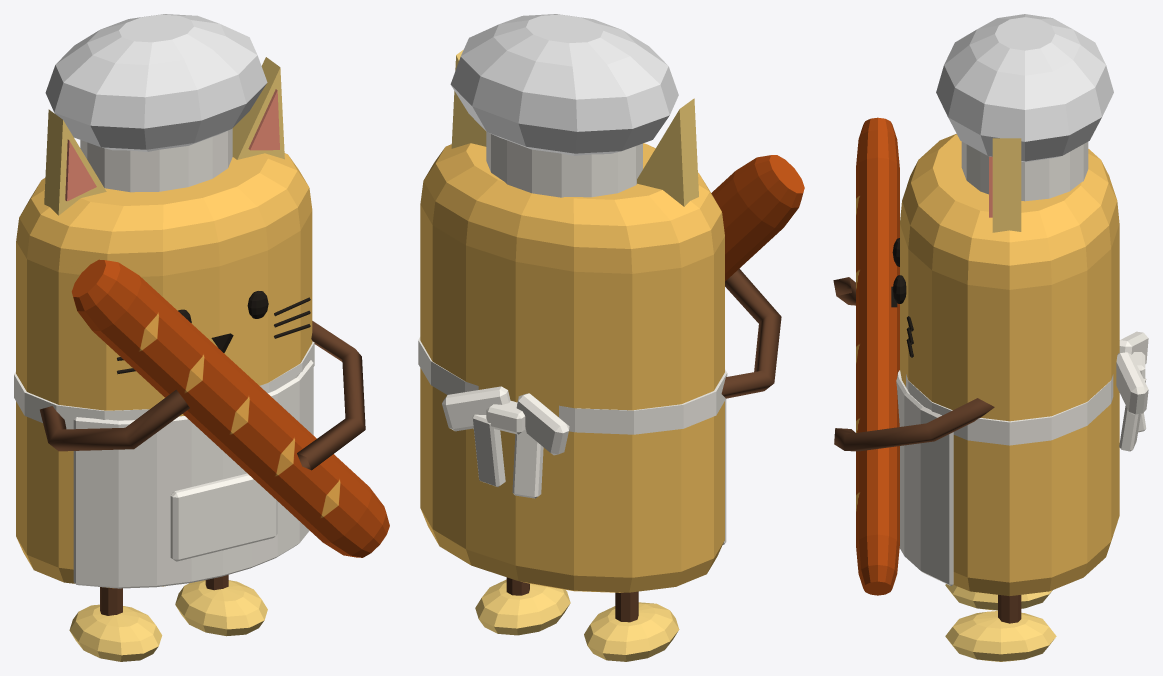
Rendered from char_baker_cat_stout_v9.glb.
The picture shows the model from 3 angles, left to right: view 1: azimuth 30°, elevation 25°; view 2: azimuth 150°, elevation 25°; view 3: azimuth 270°, elevation 25°; orthographic projection. The views are drawn at different scales.
Visible parts, largest first — view 1: BC3_Body_Capsule, BC3_Baguette, BC3_Hat_Puff, BC3_Apron_Front, BC3_Apron_Pocket, BC3_Hat_Band, BC3_Foot_L, BC3_Foot_R, BC3_Arm_L_UpperSupport, BC3_Arm_R_LowerWrap, BC3_EarInner_L, BC3_EarInner_R (+2 smaller); view 2: BC3_Body_Capsule, BC3_Hat_Puff, BC3_Baguette, BC3_Hat_Band, BC3_Apron_Waistband, BC3_Foot_L, BC3_EarInner_L, BC3_Foot_R, BC3_Arm_L_UpperSupport, BC3_Bow_L, BC3_Bow_R, BC3_Ribbon_L (+4 smaller); view 3: BC3_Body_Capsule, BC3_Hat_Puff, BC3_Baguette, BC3_Apron_Front, BC3_Apron_Waistband, BC3_Foot_R, BC3_Hat_Band, BC3_Arm_R_LowerWrap, BC3_EarInner_R, BC3_Bow_R, BC3_Foot_L, BC3_Ribbon_R (+3 smaller).
Part boxes in pixels (left/top/right/bottom): BC3_Body_Capsule: left=16, top=153, right=312, bottom=588; BC3_Baguette: left=71, top=259, right=389, bottom=557; BC3_Hat_Puff: left=45, top=14, right=267, bottom=151; BC3_Apron_Front: left=73, top=360, right=313, bottom=588; BC3_Apron_Pocket: left=170, top=473, right=277, bottom=561; BC3_Hat_Band: left=80, top=128, right=232, bottom=192; BC3_Foot_L: left=69, top=604, right=162, bottom=661; BC3_Foot_R: left=175, top=580, right=267, bottom=636; BC3_Arm_L_UpperSupport: left=40, top=389, right=189, bottom=451; BC3_Arm_R_LowerWrap: left=297, top=321, right=365, bottom=470; BC3_EarInner_L: left=44, top=109, right=106, bottom=215; BC3_EarInner_R: left=232, top=57, right=284, bottom=159; BC3_Body_Capsule: left=420, top=143, right=724, bottom=592; BC3_Hat_Puff: left=450, top=14, right=678, bottom=155; BC3_Baguette: left=711, top=155, right=804, bottom=281; BC3_Hat_Band: left=486, top=132, right=642, bottom=197; BC3_Apron_Waistband: left=418, top=337, right=727, bottom=434; BC3_Foot_L: left=584, top=602, right=679, bottom=661; BC3_EarInner_L: left=637, top=98, right=698, bottom=206; BC3_Foot_R: left=475, top=579, right=570, bottom=635; BC3_Arm_L_UpperSupport: left=721, top=268, right=781, bottom=398; BC3_Bow_L: left=516, top=393, right=569, bottom=455; BC3_Bow_R: left=442, top=386, right=510, bottom=431; BC3_Ribbon_L: left=512, top=427, right=543, bottom=498; BC3_Body_Capsule: left=900, top=134, right=1119, bottom=596; BC3_Hat_Puff: left=936, top=14, right=1113, bottom=162; BC3_Baguette: left=856, top=117, right=899, bottom=595; BC3_Apron_Front: left=896, top=370, right=953, bottom=586; BC3_Apron_Waistband: left=906, top=374, right=1113, bottom=445; BC3_Foot_R: left=945, top=611, right=1056, bottom=661; BC3_Hat_Band: left=961, top=142, right=1088, bottom=201; BC3_Arm_R_LowerWrap: left=834, top=398, right=994, bottom=451; BC3_EarInner_R: left=989, top=138, right=1021, bottom=232; BC3_Bow_R: left=1116, top=352, right=1148, bottom=414; BC3_Foot_L: left=945, top=584, right=1052, bottom=610; BC3_Ribbon_R: left=1119, top=378, right=1146, bottom=451.
Size of the model in its own units: 3.28 by 5.99 by 2.87.
7 materials, 1 textured.
